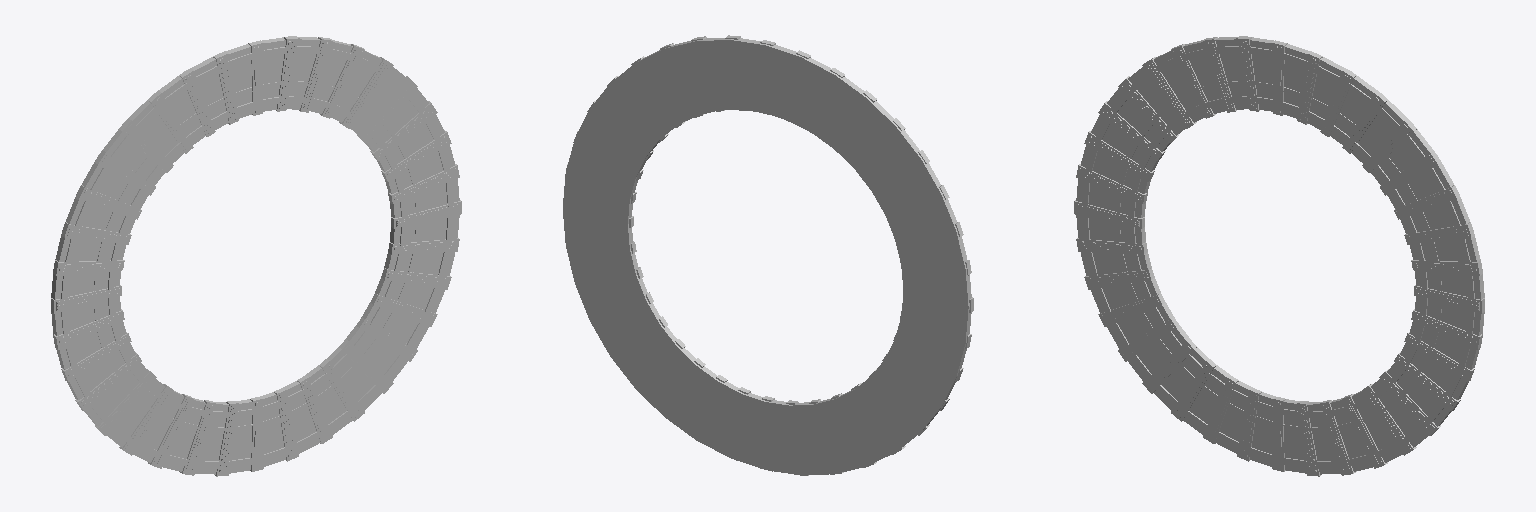
The model's file is ring_base.obj.
3 views of the same model, side by side, from view 1: azimuth 30°, elevation 25°; view 2: azimuth 150°, elevation 25°; view 3: azimuth 330°, elevation 25° (orthographic).
Visible parts, largest first — view 1: defaultMaterial.010; view 2: defaultMaterial.010; view 3: defaultMaterial.010.
Boxes of the visible parts, <box> form: defaultMaterial.010: <box>51,36,461,476</box>; defaultMaterial.010: <box>563,35,973,475</box>; defaultMaterial.010: <box>1074,36,1484,476</box>.
Size of the model in its own units: 187 by 187 by 3.75.